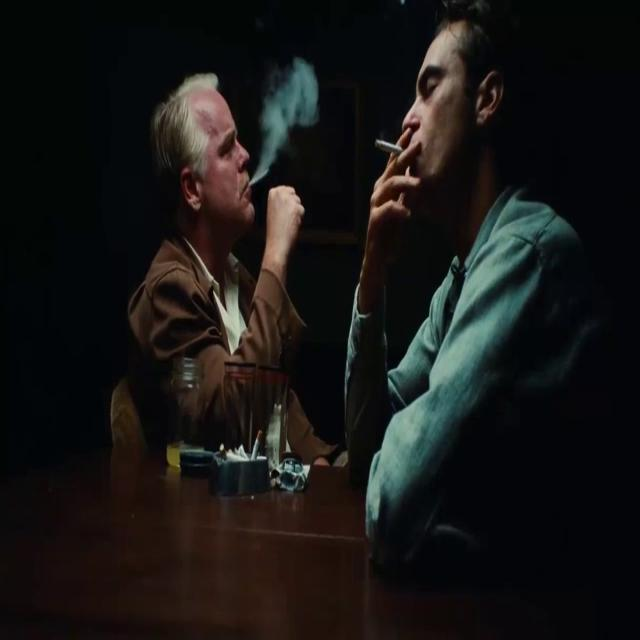Smooking: (374, 132, 406, 160), (250, 157, 271, 187)
